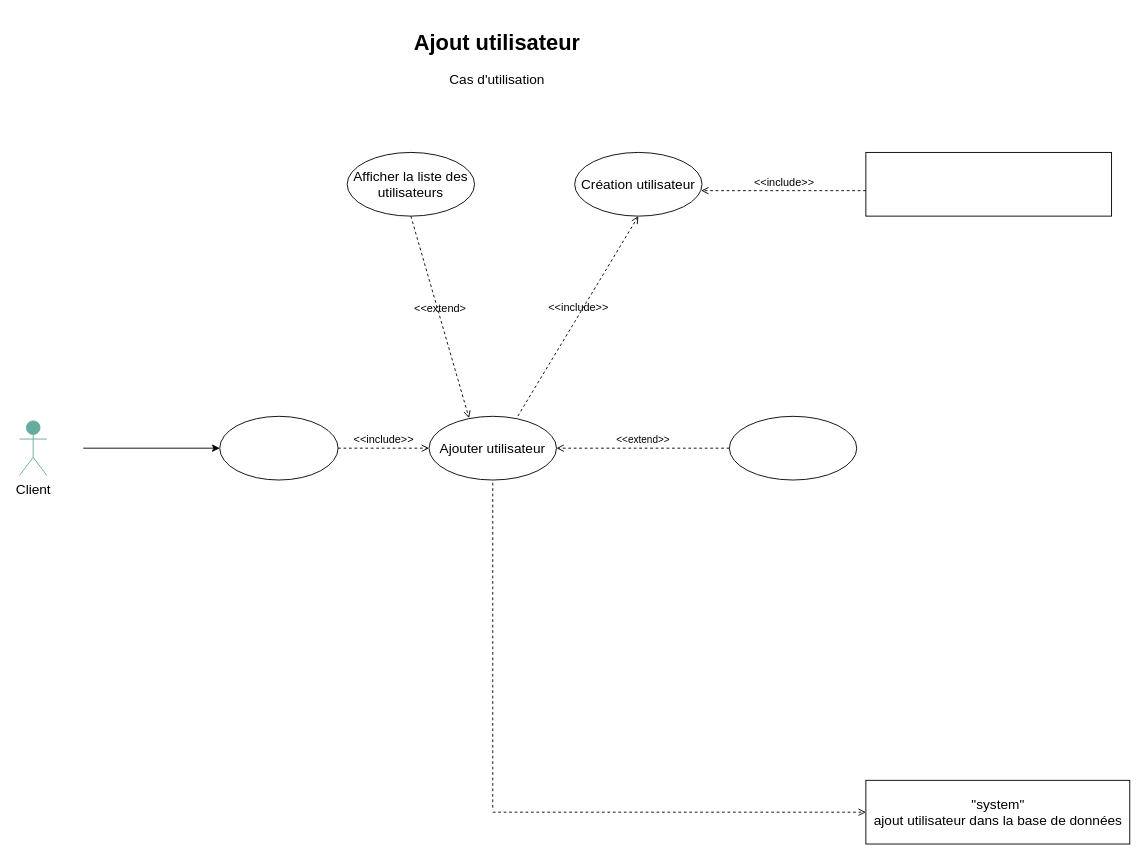
The diagram is 1146 pixels wide and 860 high, and some of its shapes have lost their labels. Here are the shapes that lost their labels. From the top down, the box of each, then its label:
(865, 152, 1112, 216): "system" vérification si l'utilisateur existe déjà
(219, 415, 338, 480): S'identifier
(728, 415, 857, 480): Supprimer utilisateur
